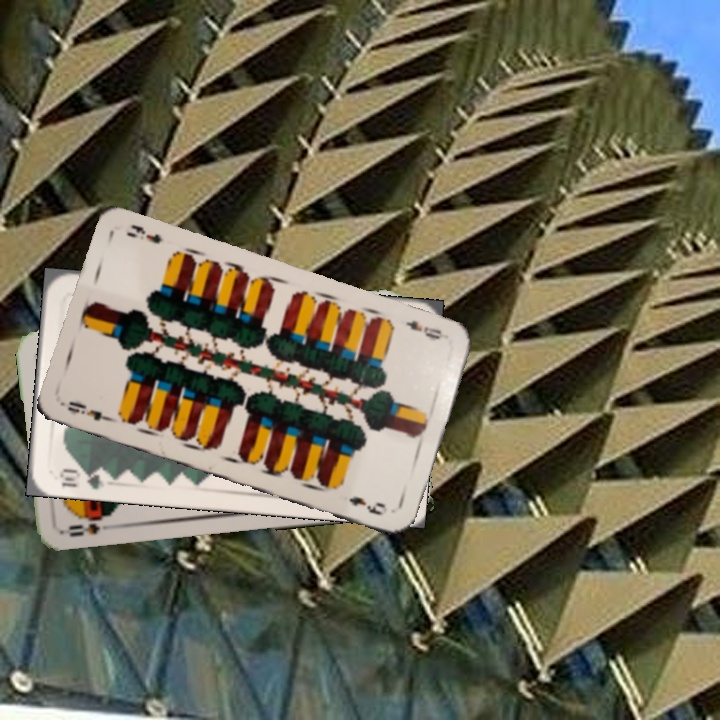E9: (59, 397, 117, 425), (401, 316, 452, 342)
G10: (55, 464, 112, 492)
SO: (59, 512, 115, 539)
